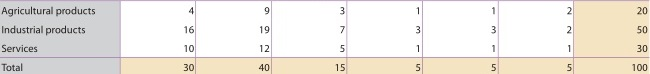column: (1, 1, 97, 74), (631, 1, 647, 74), (259, 1, 271, 74), (335, 1, 347, 73), (183, 1, 194, 74), (414, 1, 422, 74), (567, 1, 573, 74), (491, 1, 496, 74)
row: (1, 25, 650, 35), (1, 62, 649, 72), (1, 6, 650, 15), (1, 44, 650, 53)
